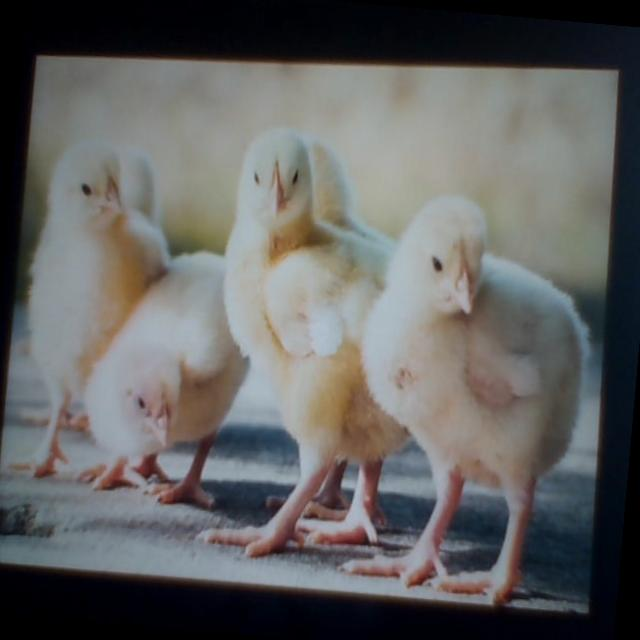Healthy: (343, 190, 600, 611), (195, 125, 418, 558), (24, 129, 150, 362)
Sick: (80, 243, 238, 516)
